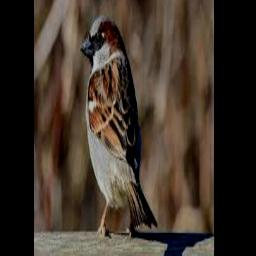Sparrow: (80, 15, 157, 237)
